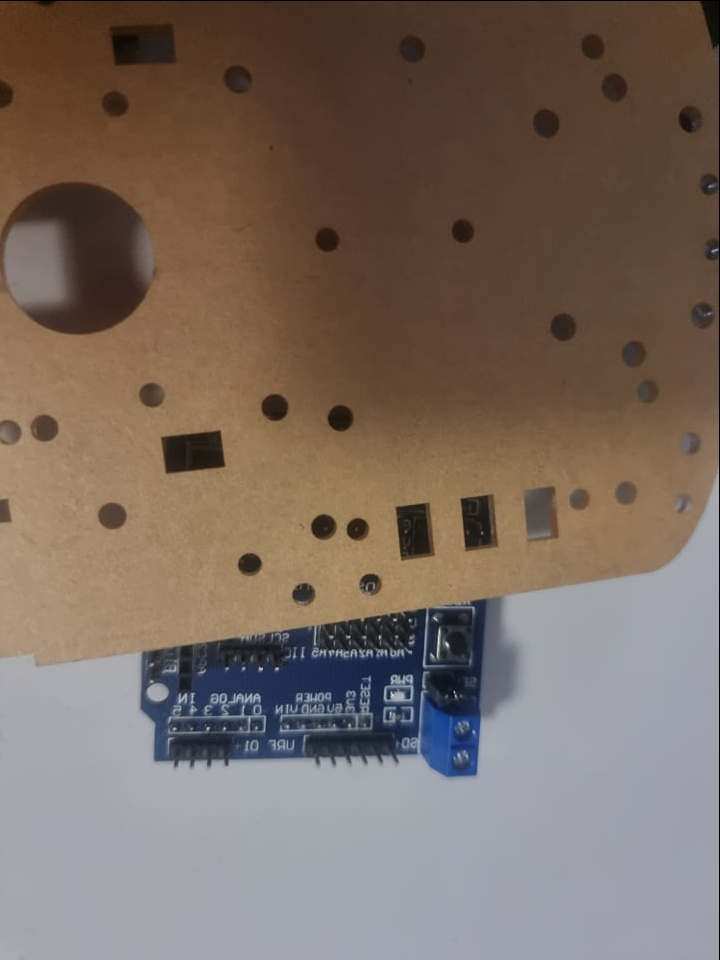5V EXPANSION: (128, 598, 497, 780)
